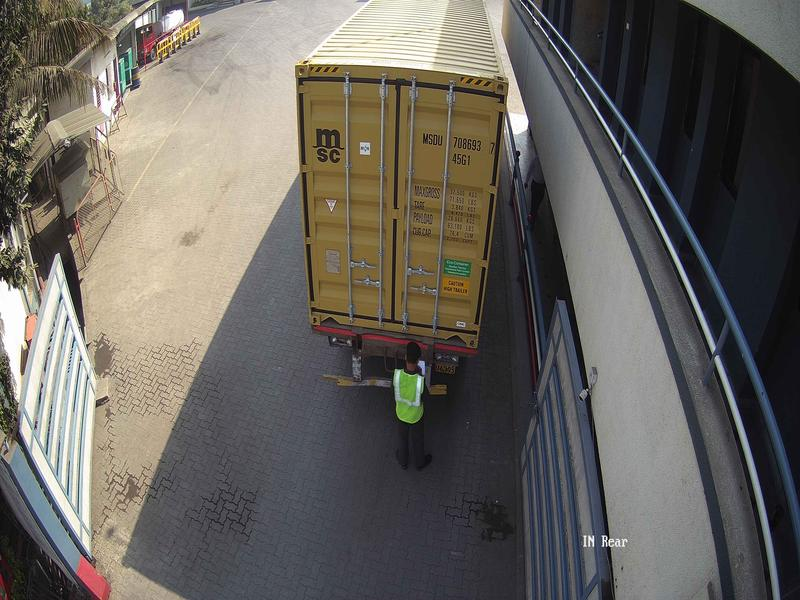container: (289, 61, 502, 346)
